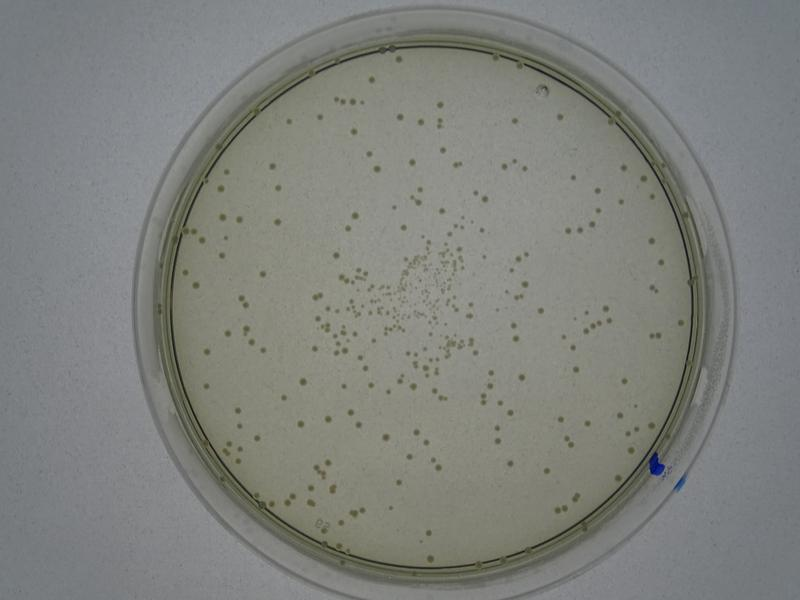colony: (643, 234, 659, 248), (514, 370, 527, 385), (533, 306, 548, 319), (264, 160, 280, 171), (554, 111, 567, 124), (295, 376, 310, 387), (617, 376, 632, 387), (509, 116, 524, 127), (396, 109, 406, 125), (295, 418, 308, 430), (503, 458, 516, 470), (435, 97, 446, 111), (591, 184, 603, 196), (201, 343, 212, 356), (379, 432, 392, 443), (393, 478, 406, 489), (201, 380, 212, 392), (398, 222, 409, 234), (322, 413, 333, 425), (407, 156, 418, 168), (542, 465, 554, 476), (348, 209, 361, 219), (656, 257, 667, 268), (278, 392, 288, 404), (405, 450, 415, 462), (271, 216, 282, 226), (256, 269, 267, 279), (332, 251, 343, 261), (570, 365, 581, 375), (273, 184, 284, 194), (675, 316, 685, 327), (224, 327, 232, 340), (309, 343, 319, 353), (410, 426, 420, 436), (345, 407, 354, 417), (216, 184, 225, 194), (371, 165, 382, 173), (556, 413, 563, 424)
